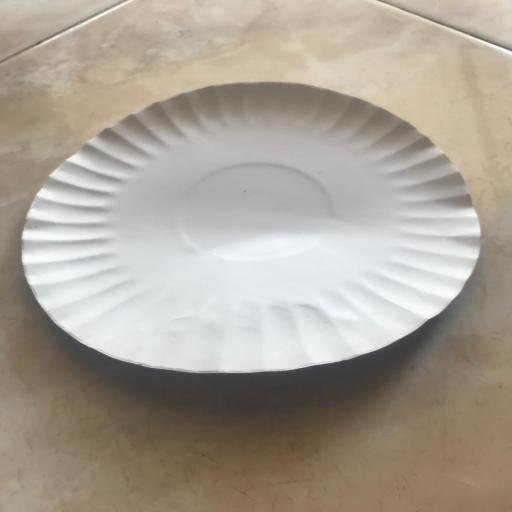waste: (14, 72, 488, 380)
